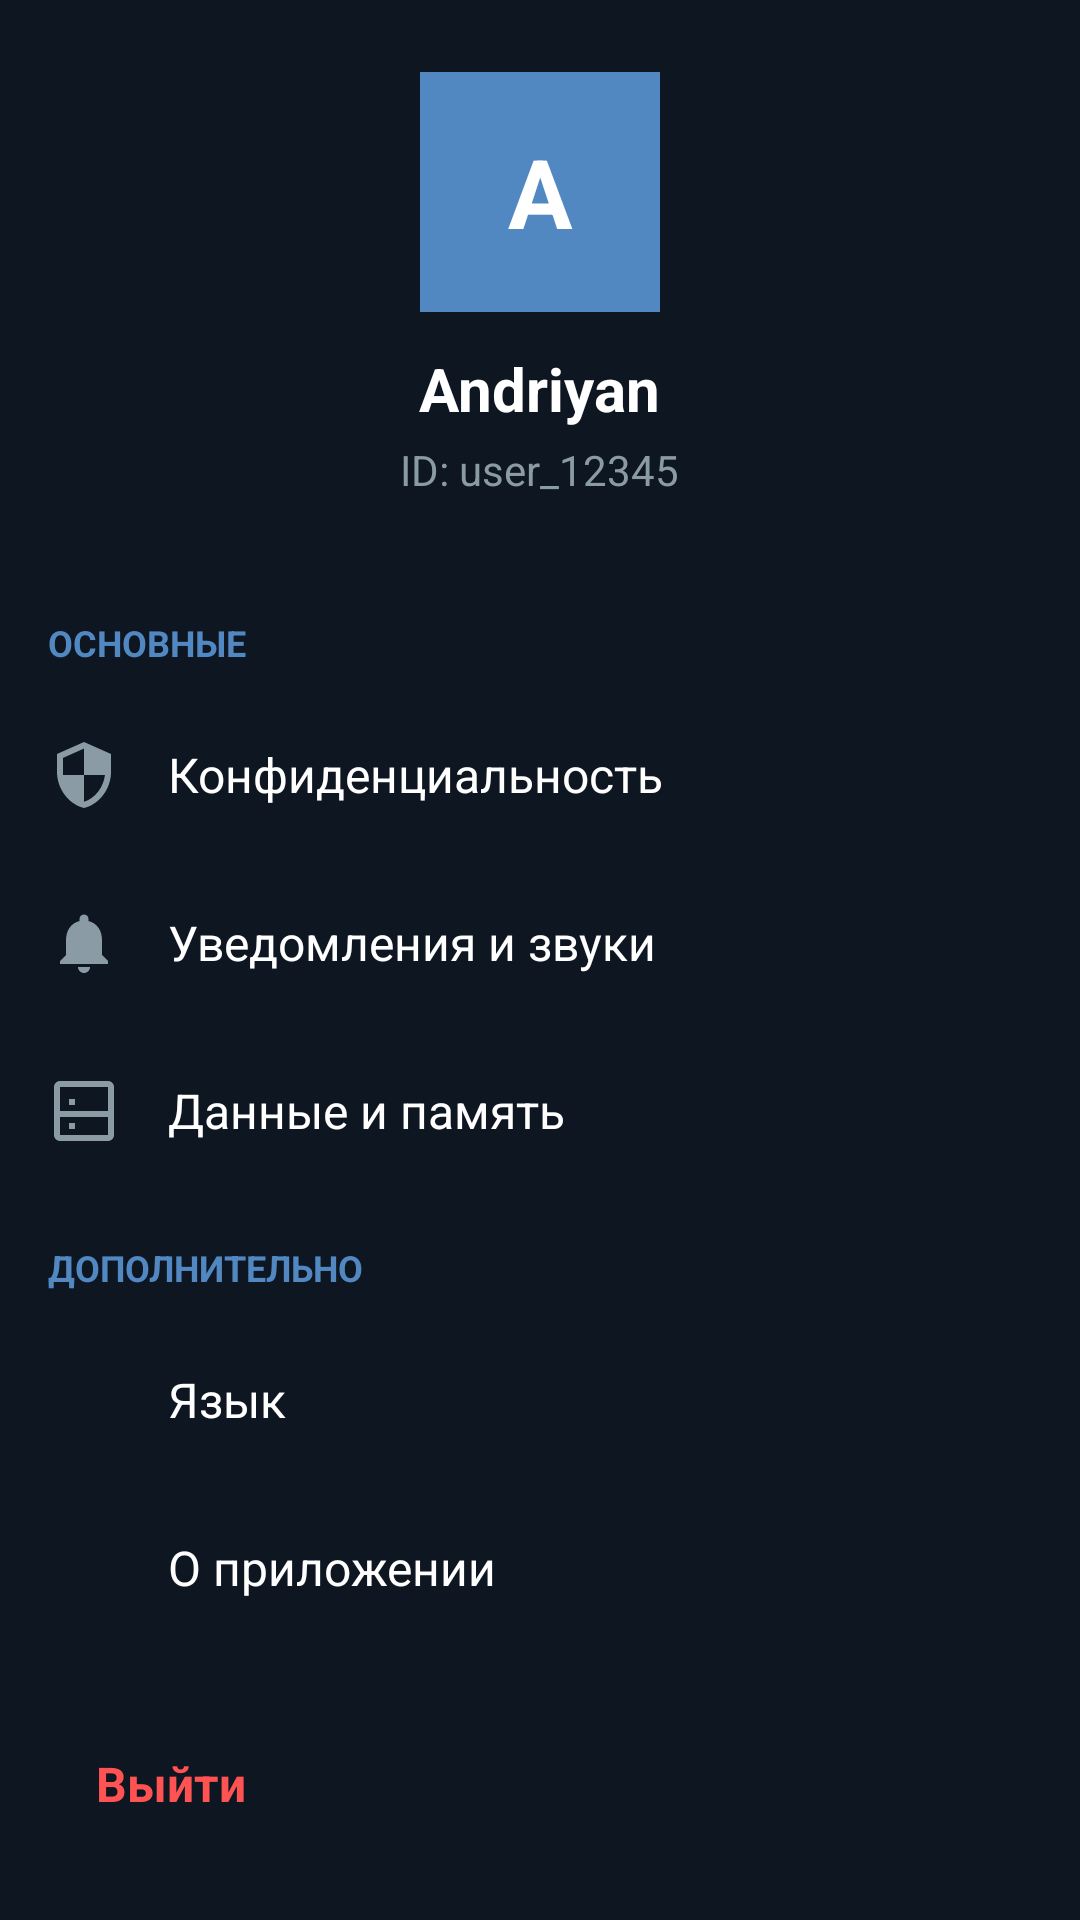

Icons on this 1080px×1920px Android screen, each with the point to tap as [x,y]:
notifications: [84,943]
security: [84,775]
storage: [84,1111]
